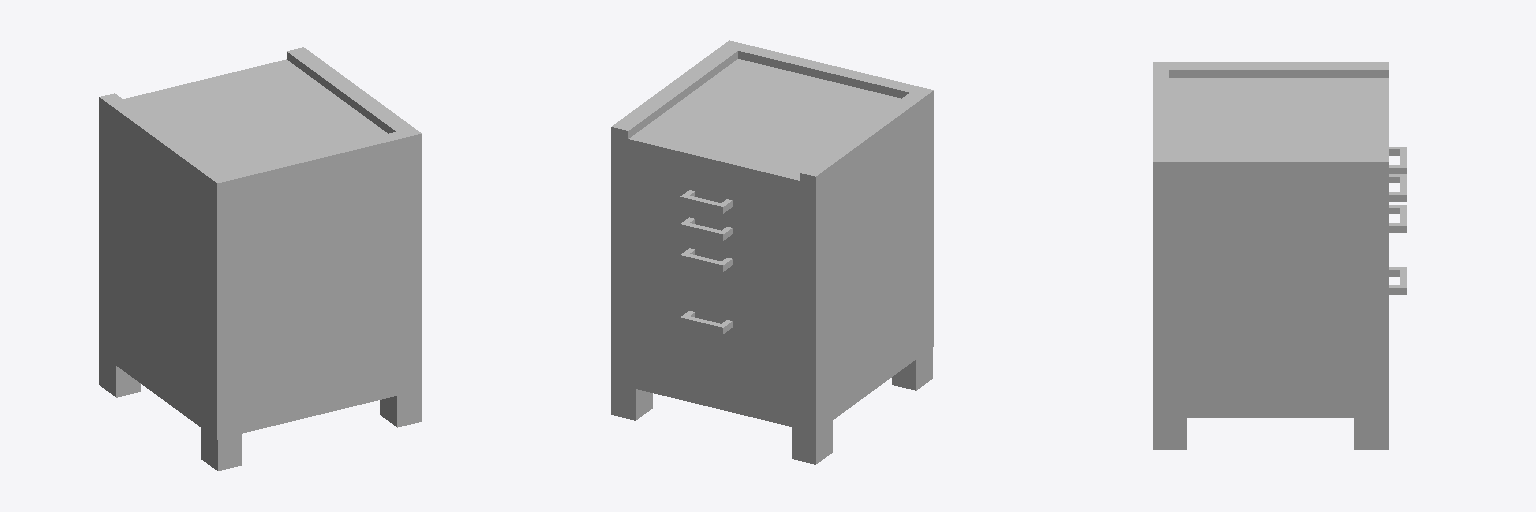
The model's file is mesh_crashcart2.obj.
3 renders of one model, left to right at view 1: azimuth 30°, elevation 25°; view 2: azimuth 150°, elevation 25°; view 3: azimuth 270°, elevation 25°, orthographic.
Parts seen in each view (by area): view 1: Cube; view 2: Cube; view 3: Cube.
Part boxes in pixels (bbox=[...]): Cube: bbox=[99, 47, 421, 470]; Cube: bbox=[611, 40, 933, 464]; Cube: bbox=[1153, 62, 1406, 449].
Bounding box in the file's own units: 2.03 × 2.73 × 2.19.